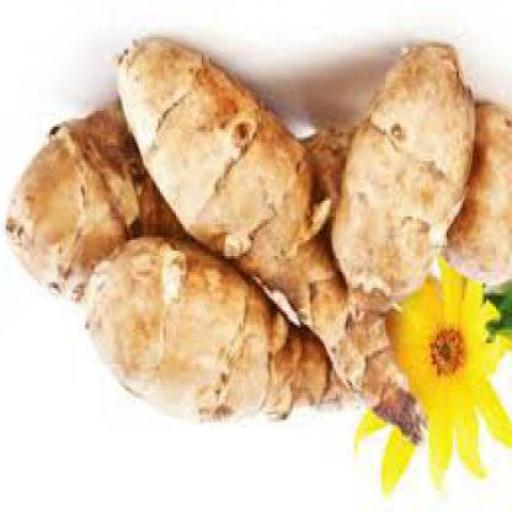biodegradable: (119, 38, 425, 448), (87, 232, 429, 449), (332, 46, 479, 385), (8, 103, 194, 306), (356, 258, 510, 498), (445, 106, 511, 288), (298, 132, 354, 232)
